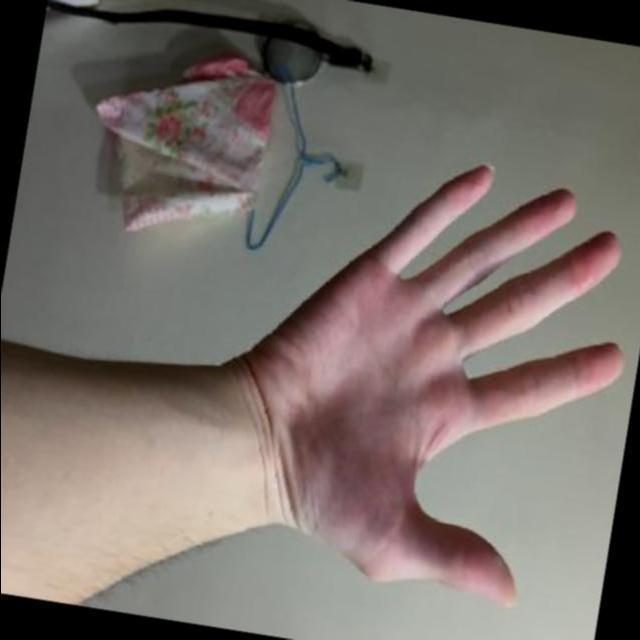hand: (192, 114, 640, 626)
